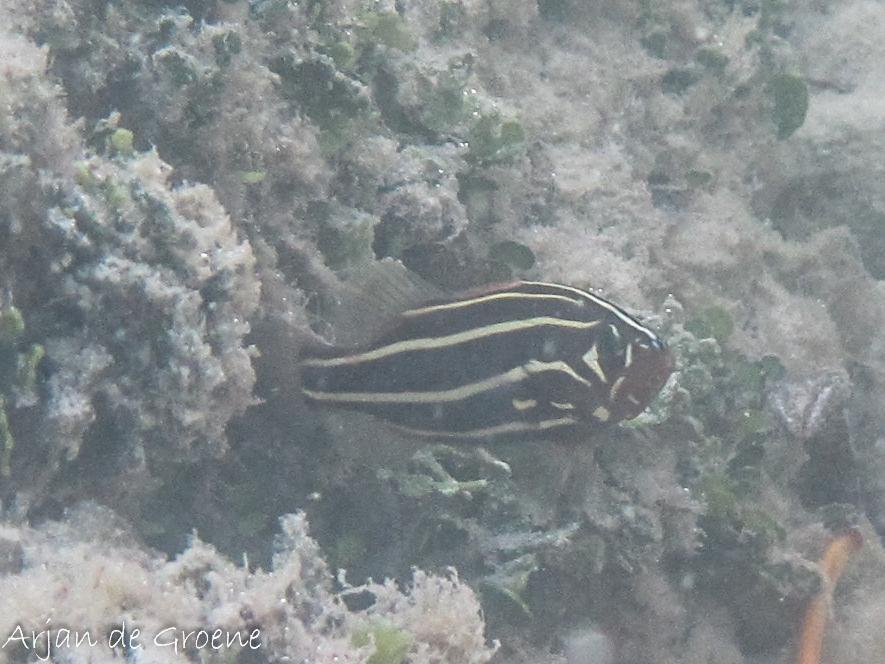Fish: (272, 258, 688, 470)
